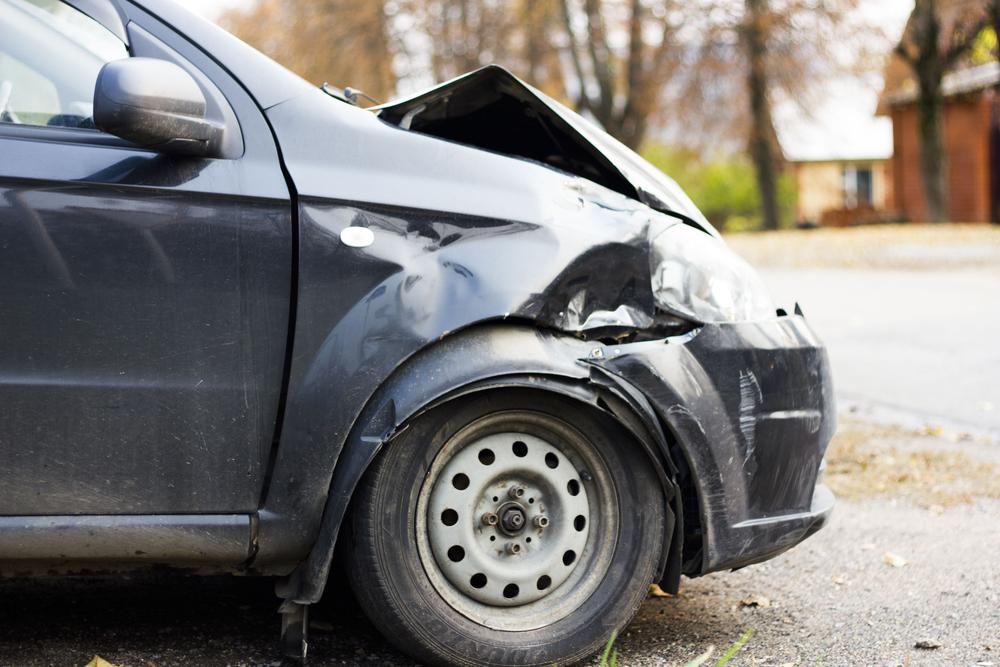dent: (358, 208, 650, 344), (363, 399, 394, 442)
scratch: (732, 368, 763, 462)
